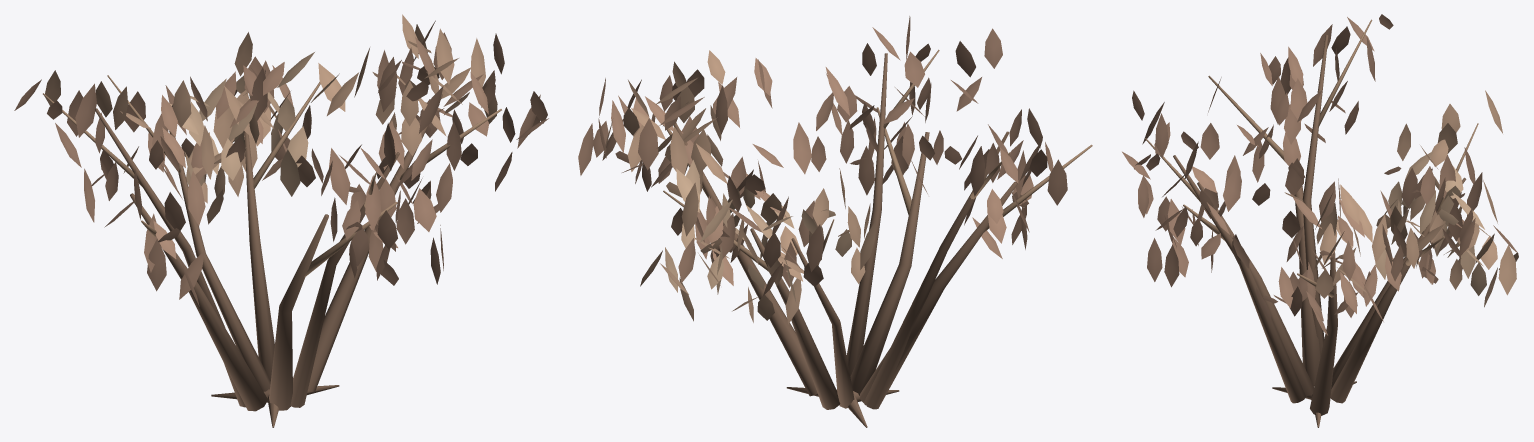
The model's file is bush_3d_06_copper.glb.
3 renders of one model, left to right at view 1: azimuth 30°, elevation 25°; view 2: azimuth 150°, elevation 25°; view 3: azimuth 270°, elevation 25°, orthographic. The views are drawn at different scales.
Parts seen in each view (by area): view 1: bush_3d_06_copper_foliage, bush_3d_06_copper_wood; view 2: bush_3d_06_copper_foliage, bush_3d_06_copper_wood; view 3: bush_3d_06_copper_foliage, bush_3d_06_copper_wood.
Part boxes in pixels (x1=…): bush_3d_06_copper_foliage: x1=14, y1=14, x2=548, y2=306; bush_3d_06_copper_wood: x1=43, y1=75, x2=501, y2=427; bush_3d_06_copper_foliage: x1=578, y1=16, x2=1067, y2=324; bush_3d_06_copper_wood: x1=663, y1=49, x2=1092, y2=427; bush_3d_06_copper_foliage: x1=1122, y1=14, x2=1518, y2=335; bush_3d_06_copper_wood: x1=1145, y1=19, x2=1478, y2=427.
Bounding box in the file's own units: 2.65 × 1.81 × 2.14.
